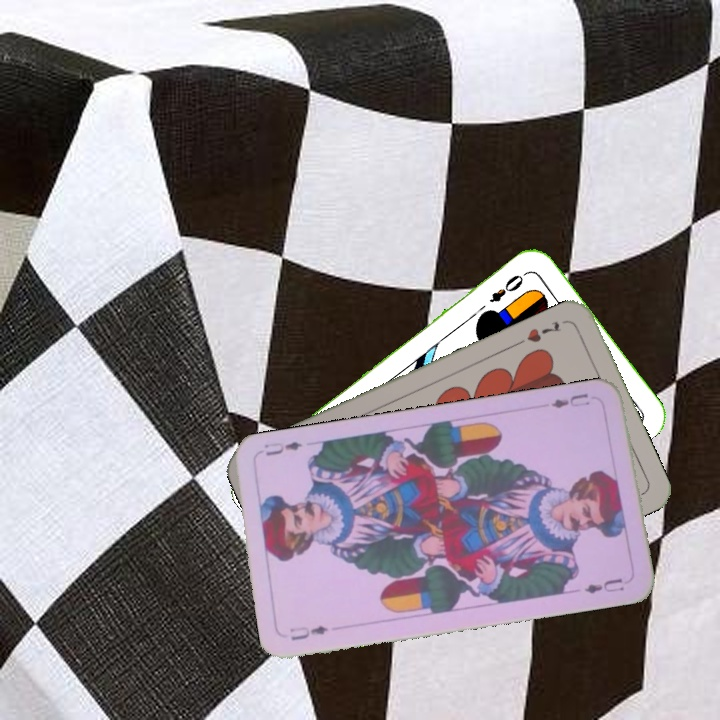EO: (485, 267, 530, 306)
EU: (547, 389, 592, 411), (286, 621, 331, 643)
H7: (522, 317, 564, 346)
